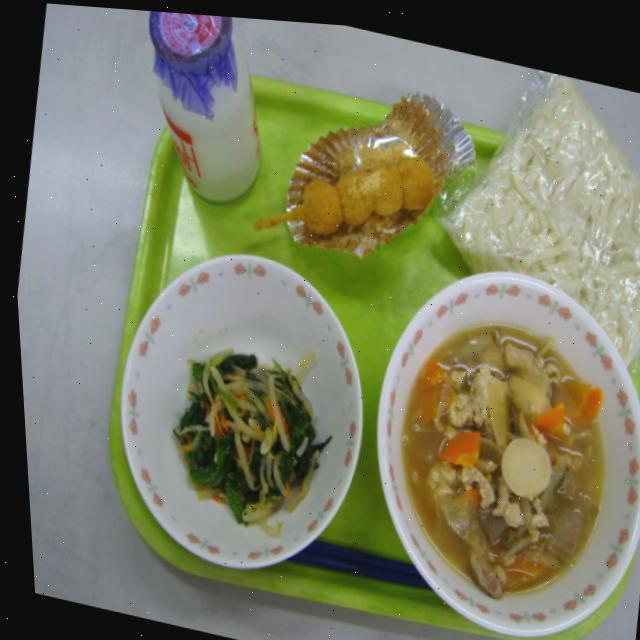蔬菜料理: (309, 202, 640, 640)
